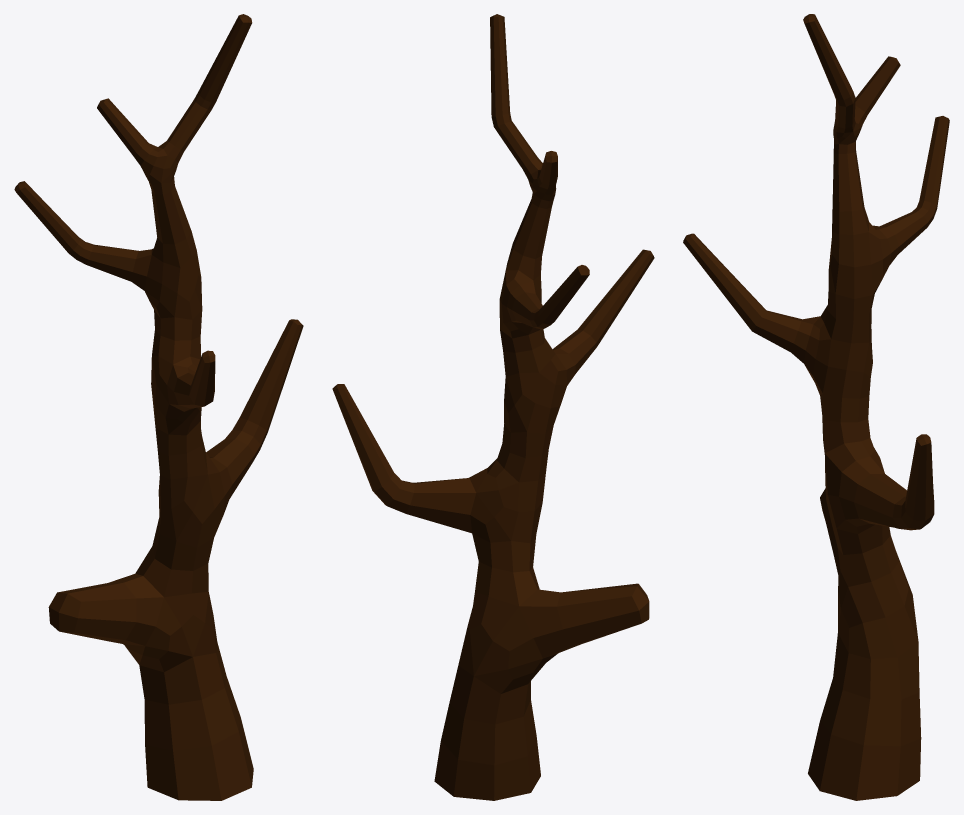
The model's file is tree_dry.fbx.
3 renders of one model, left to right at view 1: azimuth 30°, elevation 25°; view 2: azimuth 150°, elevation 25°; view 3: azimuth 270°, elevation 25°, orthographic. The views are drawn at different scales.
Parts seen in each view (by area): view 1: tree_dry; view 2: tree_dry; view 3: tree_dry.
Part boxes in pixels (<box>): tree_dry: <box>14,14,303,800</box>; tree_dry: <box>332,14,654,800</box>; tree_dry: <box>683,14,949,800</box>.
Bounding box in the file's own units: 1.71 × 4.4 × 1.38.
